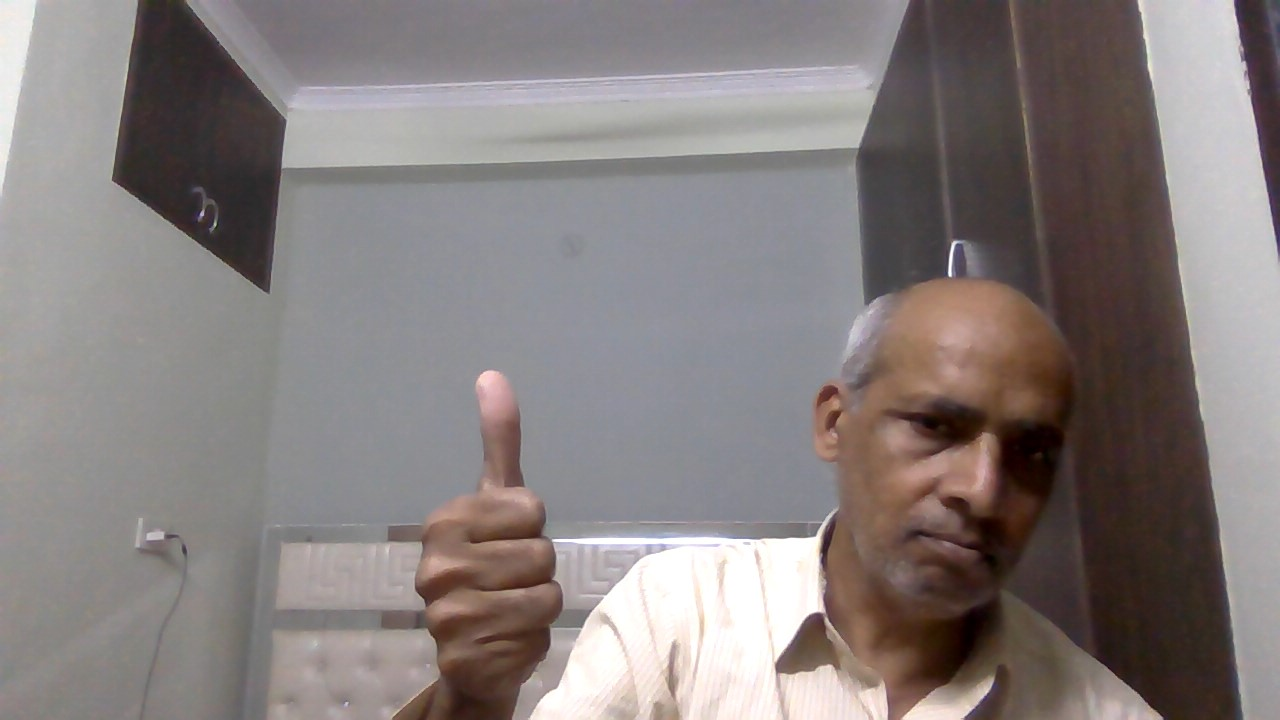Save: (401, 363, 580, 708)
